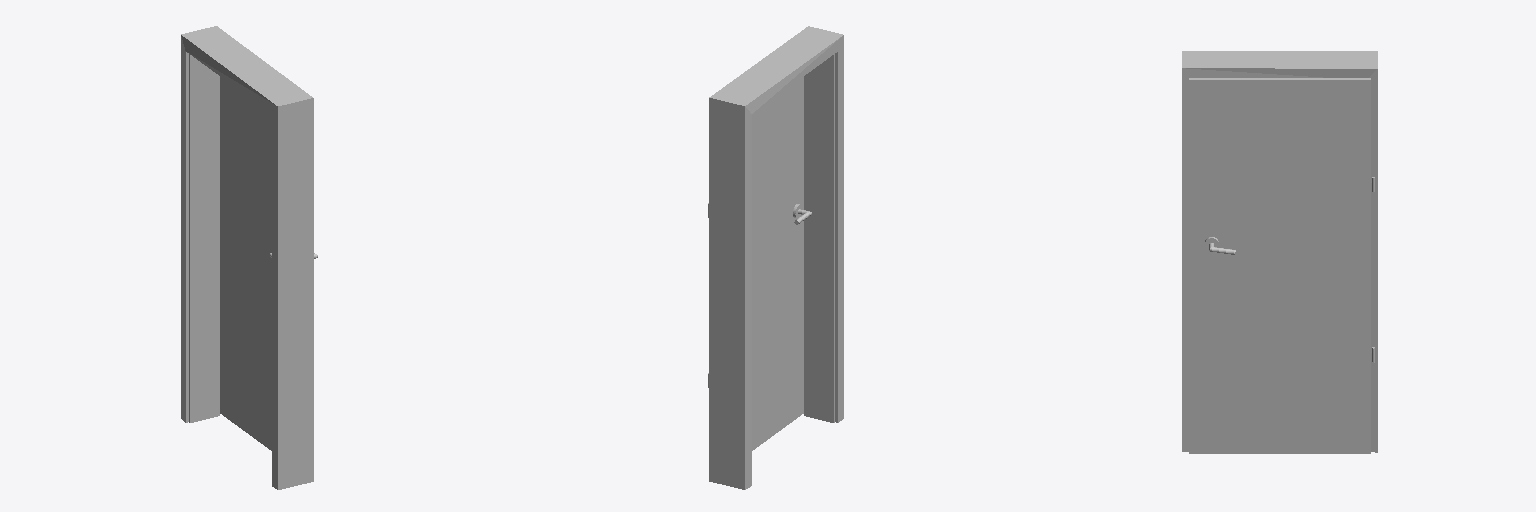
Rendered from door97.obj.
3 views of the same model, side by side, from view 1: azimuth 30°, elevation 25°; view 2: azimuth 150°, elevation 25°; view 3: azimuth 270°, elevation 25° (orthographic).
Visible parts, largest first — view 1: Cylinder.005, Cylinder.001; view 2: Cylinder.005, Cylinder.001; view 3: Cylinder.001, Cylinder.005.
Part boxes in pixels (x1,y1,x2,y2): Cylinder.005: (181,26,313,489); Cylinder.001: (220,77,271,450); Cylinder.005: (708,26,843,489); Cylinder.001: (708,77,803,450); Cylinder.001: (1189,78,1374,453); Cylinder.005: (1182,51,1377,452).
Bounding box in the file's own units: 0.3039 × 2.05 × 0.95.